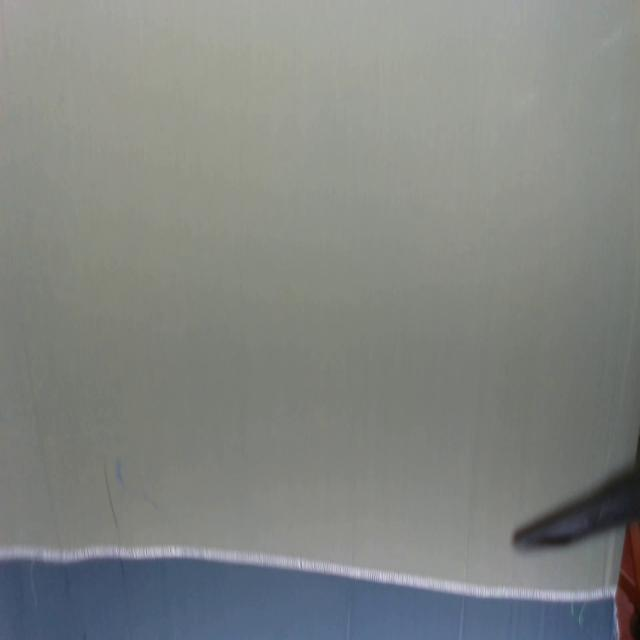crease: (19, 328, 61, 548), (102, 460, 119, 531)
